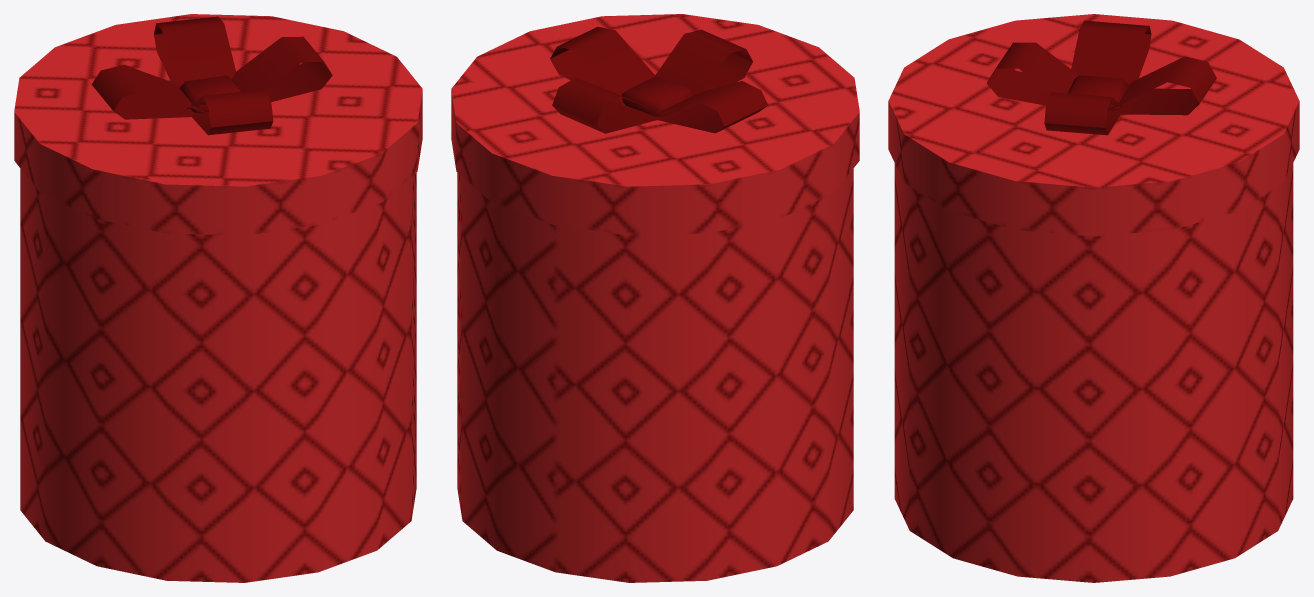
File: christmas_present_06.fbx
3 views of the same model, side by side, from view 1: azimuth 30°, elevation 25°; view 2: azimuth 150°, elevation 25°; view 3: azimuth 270°, elevation 25° (orthographic).
Parts seen in each view (by area): view 1: xmas-present_06; view 2: xmas-present_06; view 3: xmas-present_06.
Part boxes in pixels (x1=…): xmas-present_06: x1=14, y1=14, x2=422, y2=582; xmas-present_06: x1=451, y1=14, x2=859, y2=582; xmas-present_06: x1=888, y1=14, x2=1299, y2=582.
Size of the model in its own units: 19.48 by 22.85 by 19.48.
